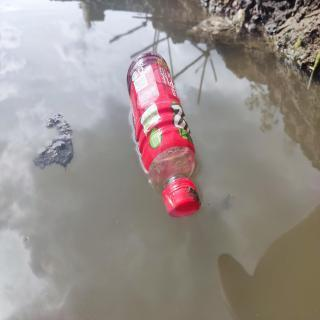bottle: (124, 48, 205, 224)
